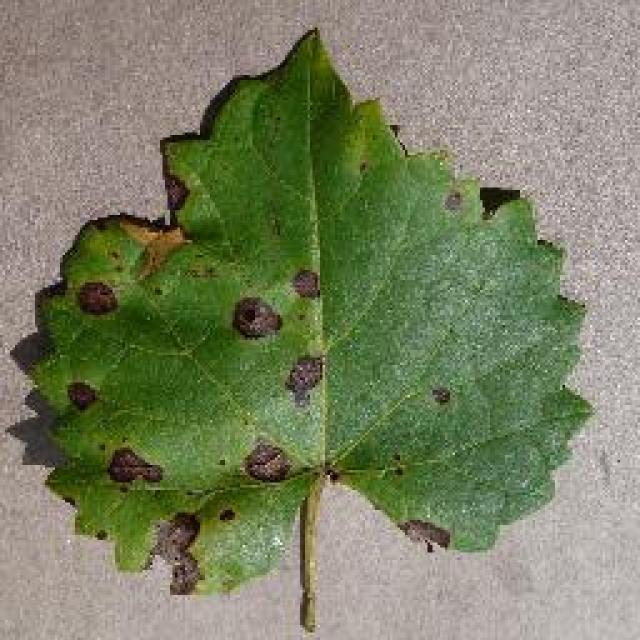Grape___Black_rot: (18, 24, 601, 602)
